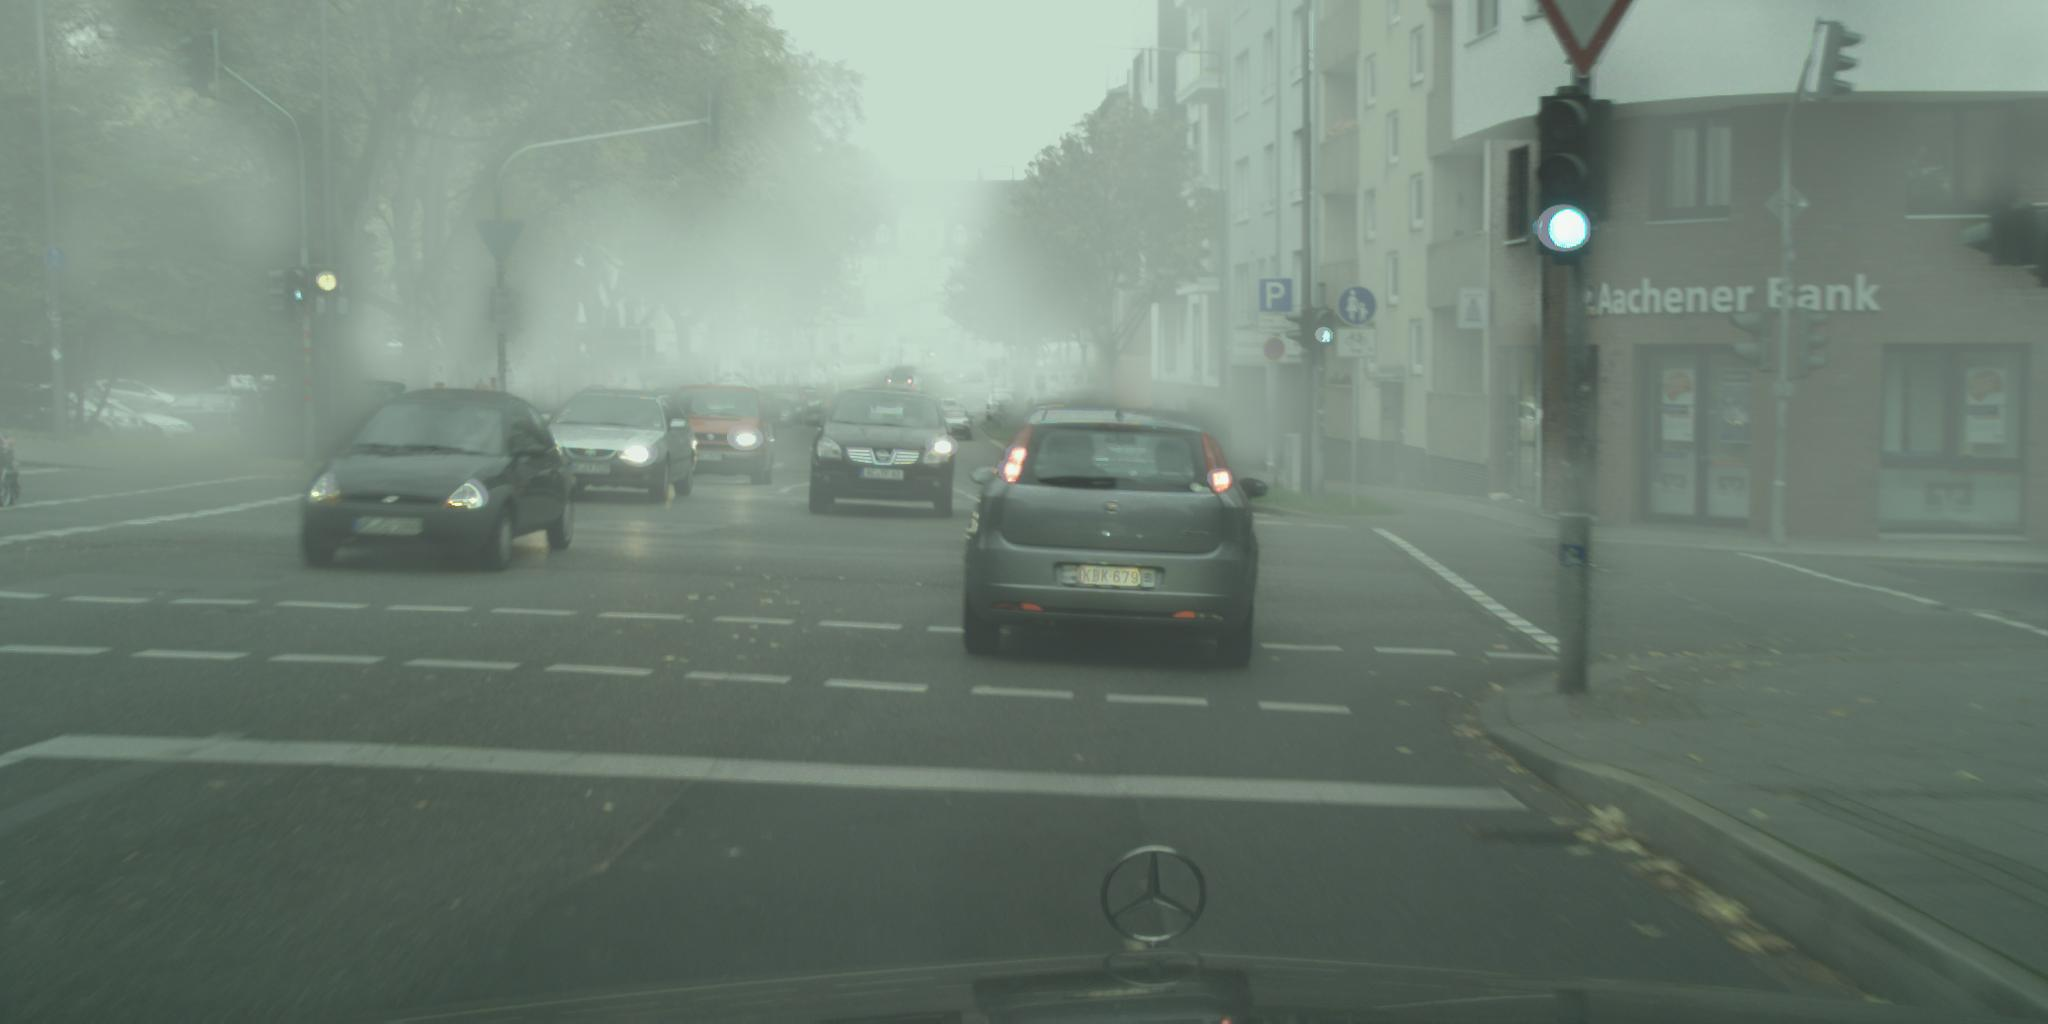bicycle: (993, 400, 1011, 432)
car: (964, 394, 1271, 667), (304, 389, 579, 572), (806, 388, 972, 517), (543, 384, 699, 502), (669, 387, 781, 485), (1, 383, 146, 438), (57, 396, 197, 440), (142, 392, 270, 439), (344, 379, 411, 434), (85, 377, 184, 414), (334, 377, 410, 421), (679, 405, 750, 436), (624, 366, 708, 392), (1032, 341, 1085, 372), (933, 406, 974, 441), (216, 375, 273, 398), (772, 392, 808, 424), (758, 398, 795, 428), (246, 375, 293, 398), (700, 370, 748, 391), (986, 393, 1020, 421), (887, 367, 923, 392), (1004, 381, 1038, 408), (943, 363, 987, 383), (933, 398, 960, 421), (798, 389, 825, 411), (993, 389, 1021, 408), (925, 344, 948, 359)
